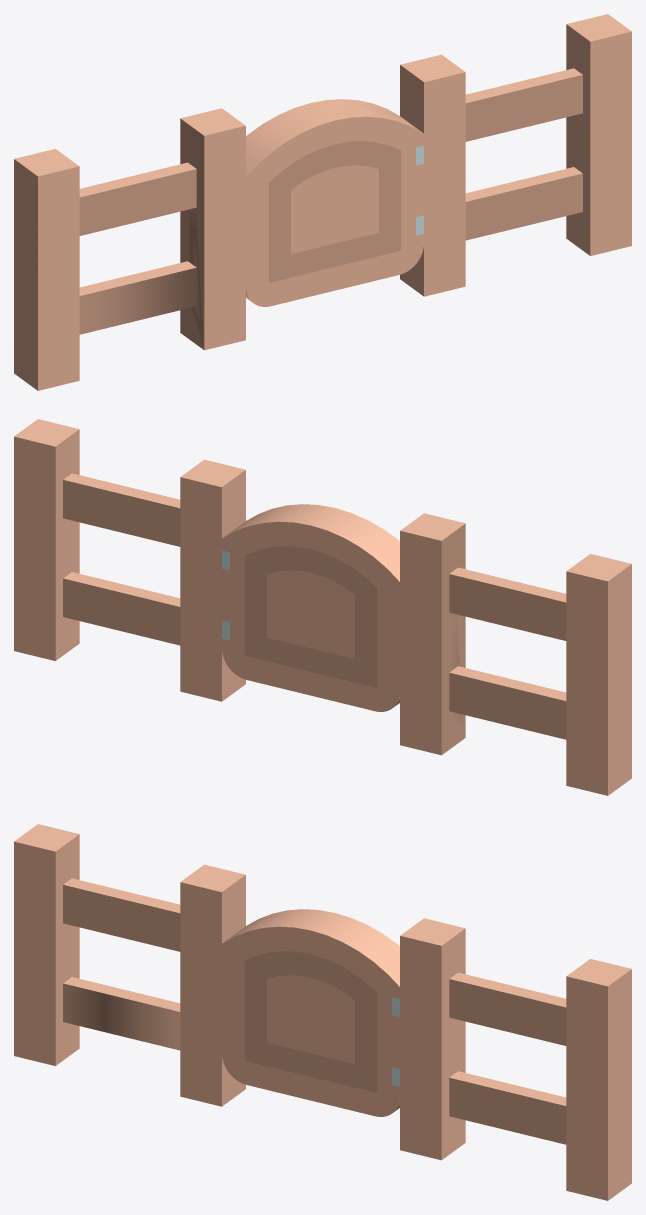
3 views of the same model, one above another, from view 1: azimuth 30°, elevation 25°; view 2: azimuth 150°, elevation 25°; view 3: azimuth 330°, elevation 25° (orthographic).
Parts seen in each view (by area): view 1: fence_gate, gate; view 2: fence_gate, gate; view 3: fence_gate, gate.
Boxes of the visible parts, x1,y1,x2,y2 form: fence_gate: (14, 14, 631, 390); gate: (246, 99, 423, 306); fence_gate: (14, 419, 631, 795); gate: (222, 504, 399, 711); fence_gate: (14, 824, 631, 1200); gate: (222, 909, 399, 1116).
Bounding box in the file's own units: 1 × 0.345 × 0.07.
